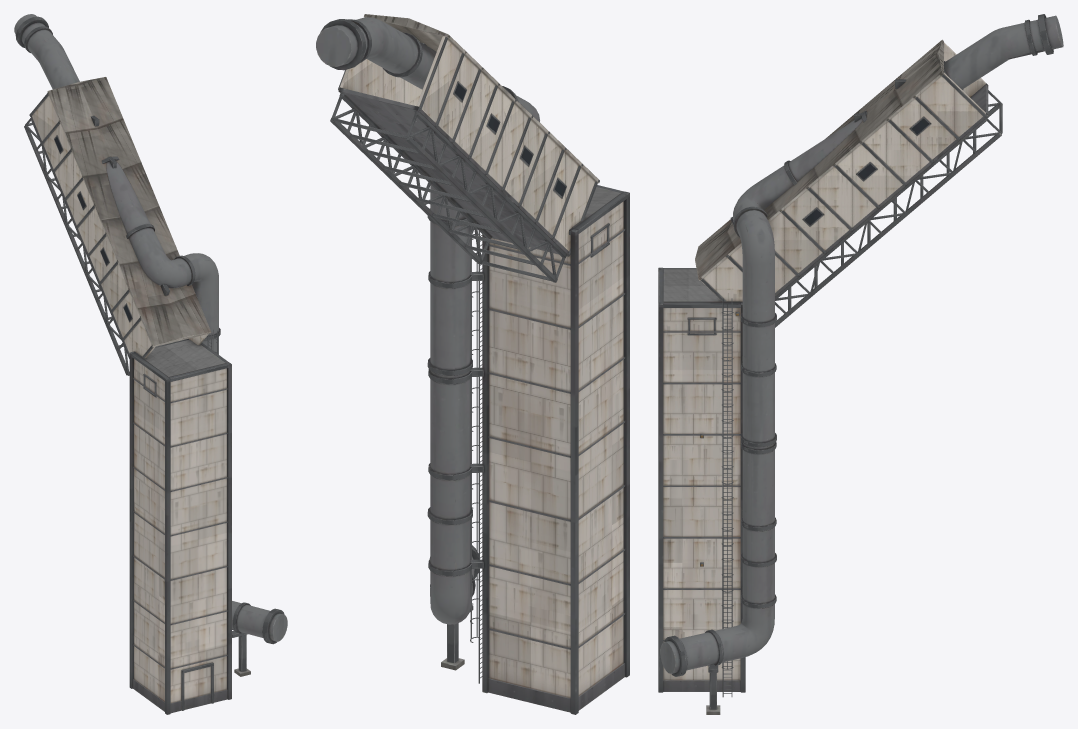
The model's file is skipGallery.glb.
The picture shows the model from 3 angles, left to right: view 1: azimuth 30°, elevation 25°; view 2: azimuth 150°, elevation 25°; view 3: azimuth 270°, elevation 25°; orthographic projection. The views are drawn at different scales.
Parts seen in each view (by area): view 1: skipGallery; view 2: skipGallery; view 3: skipGallery.
Part boxes in pixels (x1,y1,x2,y2): skipGallery: (14,14,287,714); skipGallery: (316,14,629,714); skipGallery: (658,14,1063,714).
Bounding box in the file's own units: 12.16 × 51.21 × 28.55.
Materials: 1 (1 with a texture image).
